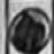correct: (9, 6, 52, 53)
